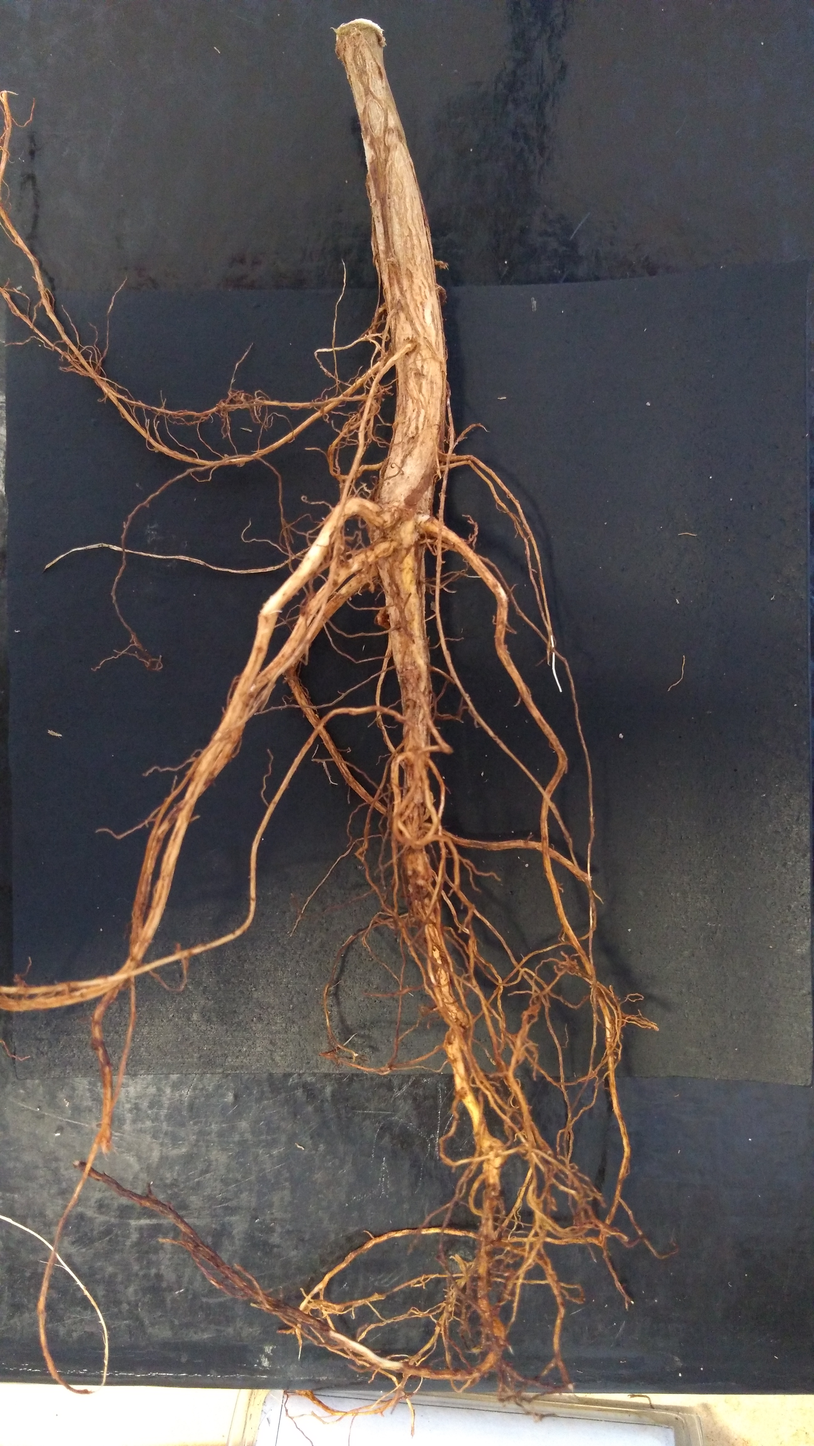nodule: (406, 851, 434, 886), (391, 519, 421, 549), (480, 1137, 508, 1168), (411, 897, 436, 923), (424, 923, 441, 946), (373, 541, 395, 558), (407, 881, 430, 897), (376, 606, 390, 630), (414, 789, 434, 805), (435, 283, 448, 305), (492, 1317, 505, 1337), (431, 942, 442, 964), (434, 259, 449, 269), (369, 403, 380, 415), (380, 302, 389, 316), (367, 328, 376, 342), (377, 354, 388, 361), (430, 601, 436, 612), (219, 401, 226, 409), (236, 462, 245, 467), (349, 420, 354, 425), (224, 454, 230, 457)
